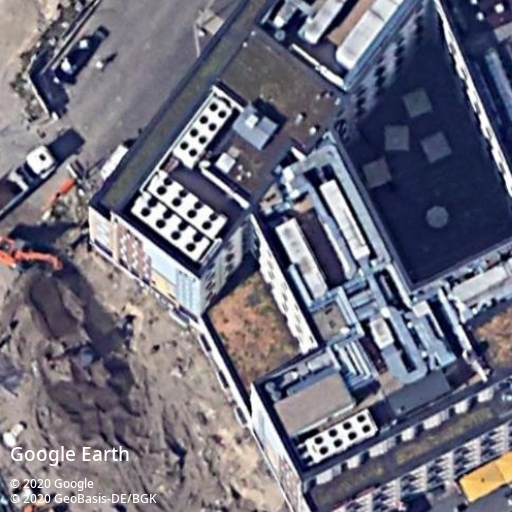Chiller: (131, 191, 212, 261), (147, 170, 227, 240), (171, 95, 233, 169), (304, 409, 378, 464)
